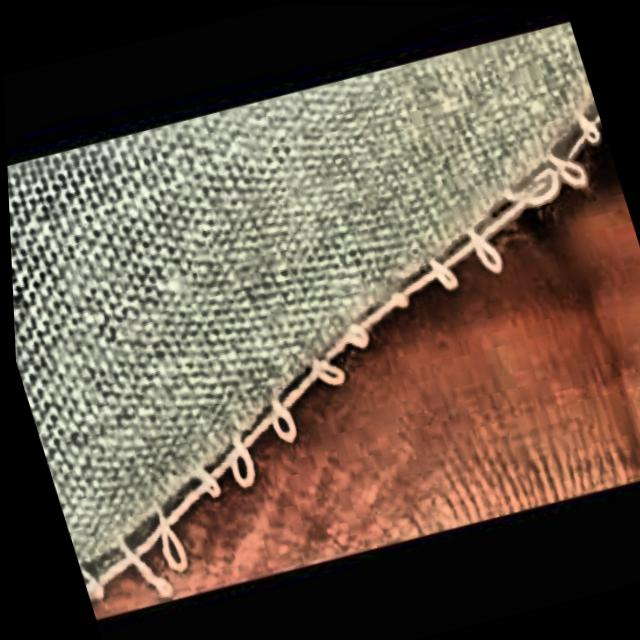Stitch: (15, 66, 640, 583)
